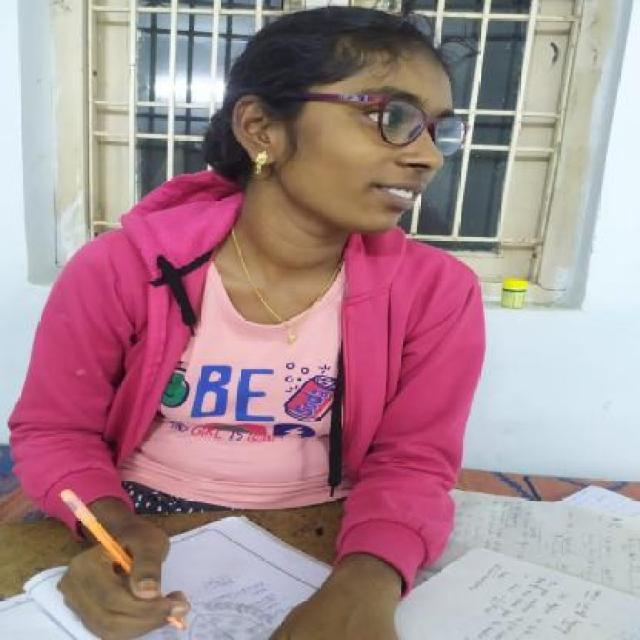cheating: (0, 0, 497, 640)
